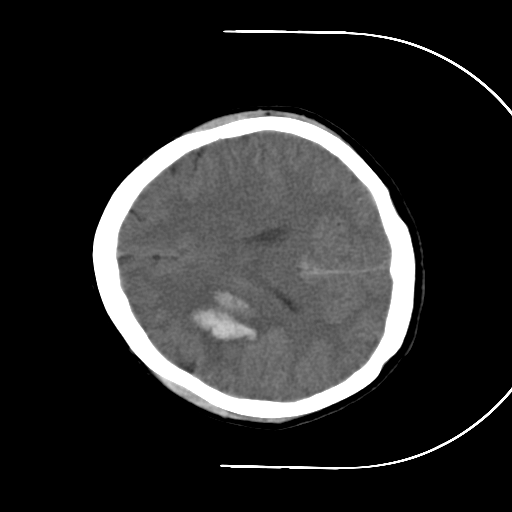a: (169, 272, 287, 365)
